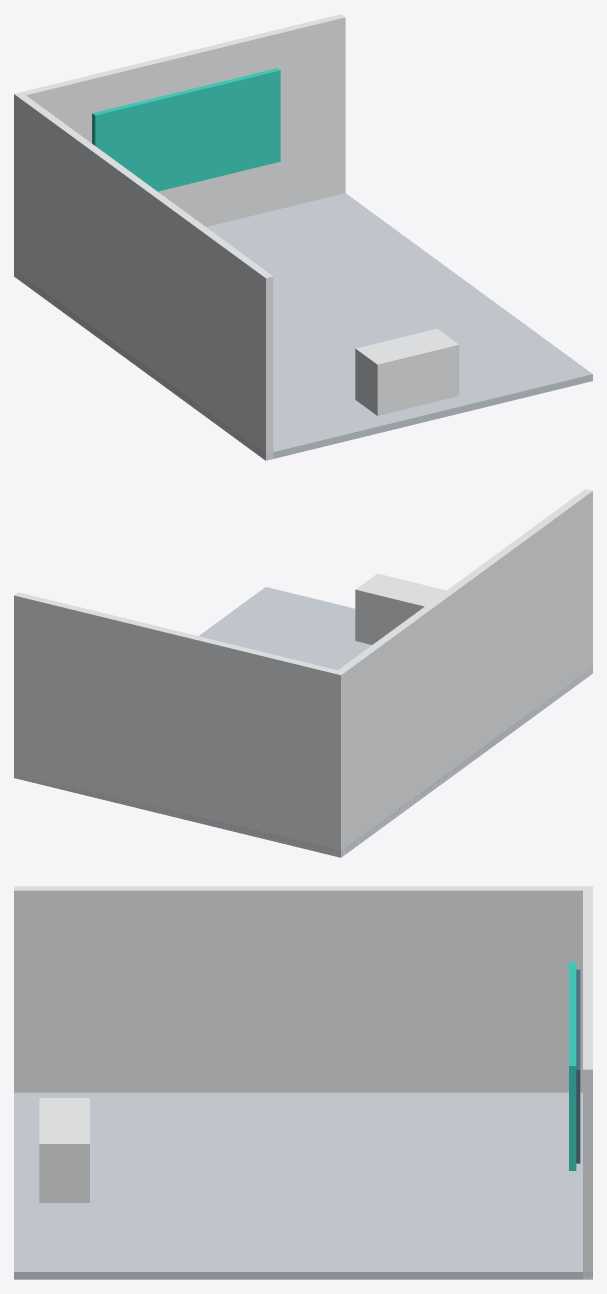
3 views of the same model, one above another, from view 1: azimuth 30°, elevation 25°; view 2: azimuth 150°, elevation 25°; view 3: azimuth 270°, elevation 25° (orthographic). The views are drawn at different scales.
Visible parts, largest first — view 1: Exhibition Booth Concept; view 2: Exhibition Booth Concept; view 3: Exhibition Booth Concept.
Part boxes in pixels (x1=…): Exhibition Booth Concept: x1=14, y1=14, x2=592, y2=460; Exhibition Booth Concept: x1=14, y1=489, x2=592, y2=857; Exhibition Booth Concept: x1=14, y1=886, x2=592, y2=1279.
Size of the model in its own units: 6 by 3.2 by 8.
